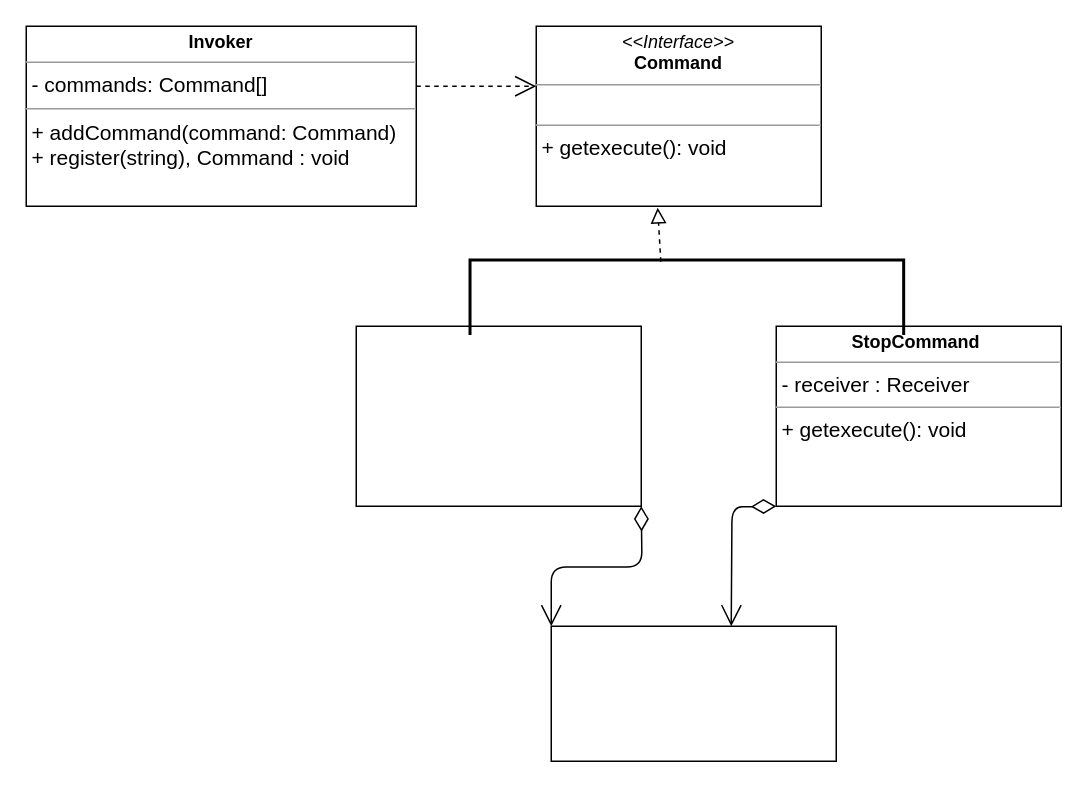
Image size: 1088x788. Some labels were removed from this diagram. Here are the shapes that lost their labels. From the top down, the centre of each, then its label:
At (498,415): "LaunchCommand - receiver : Receiver + getexecute(): void".
At (693,693): "Receiver + action(): void".
